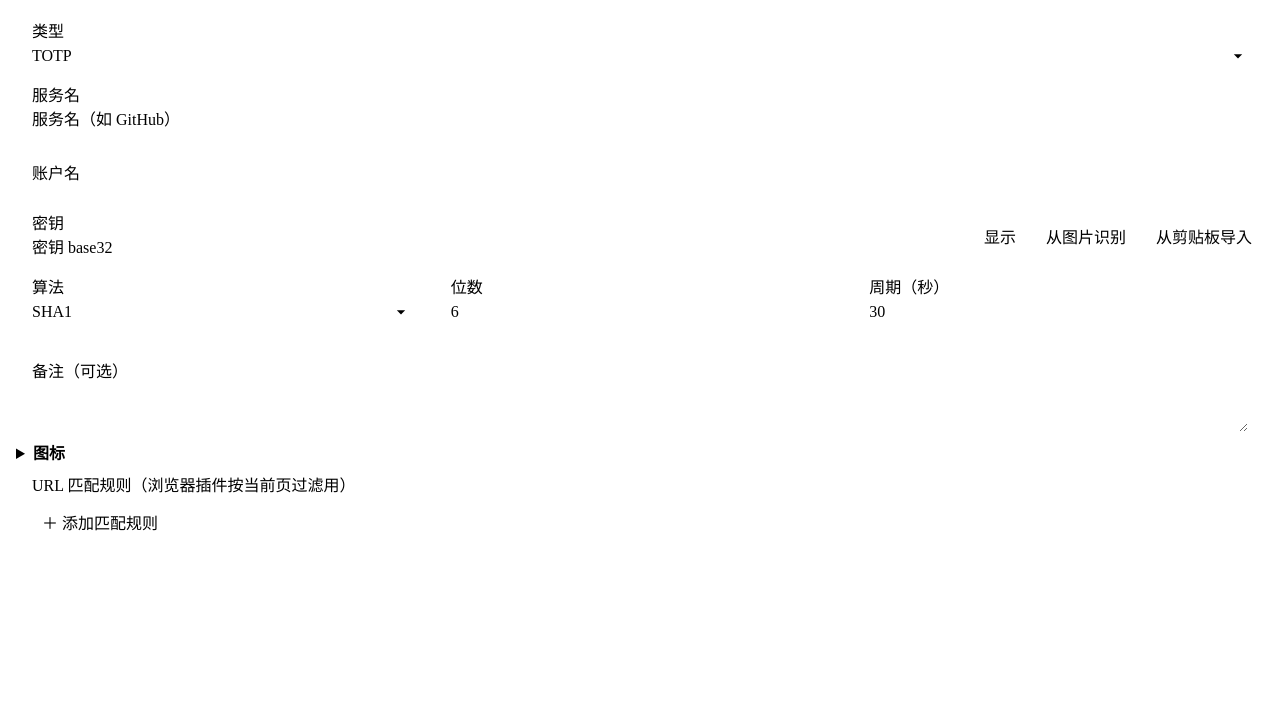
Test case: EntryForm 提交校验守卫（digits/period/counter 三向） › totp digits 越界（9）：digitsError 阻止提交
The image size is (1280, 720).
Replace the text in the number field labelled "位数" with "9" at (640, 312), box top-left (451, 300), bottom-right (829, 324)
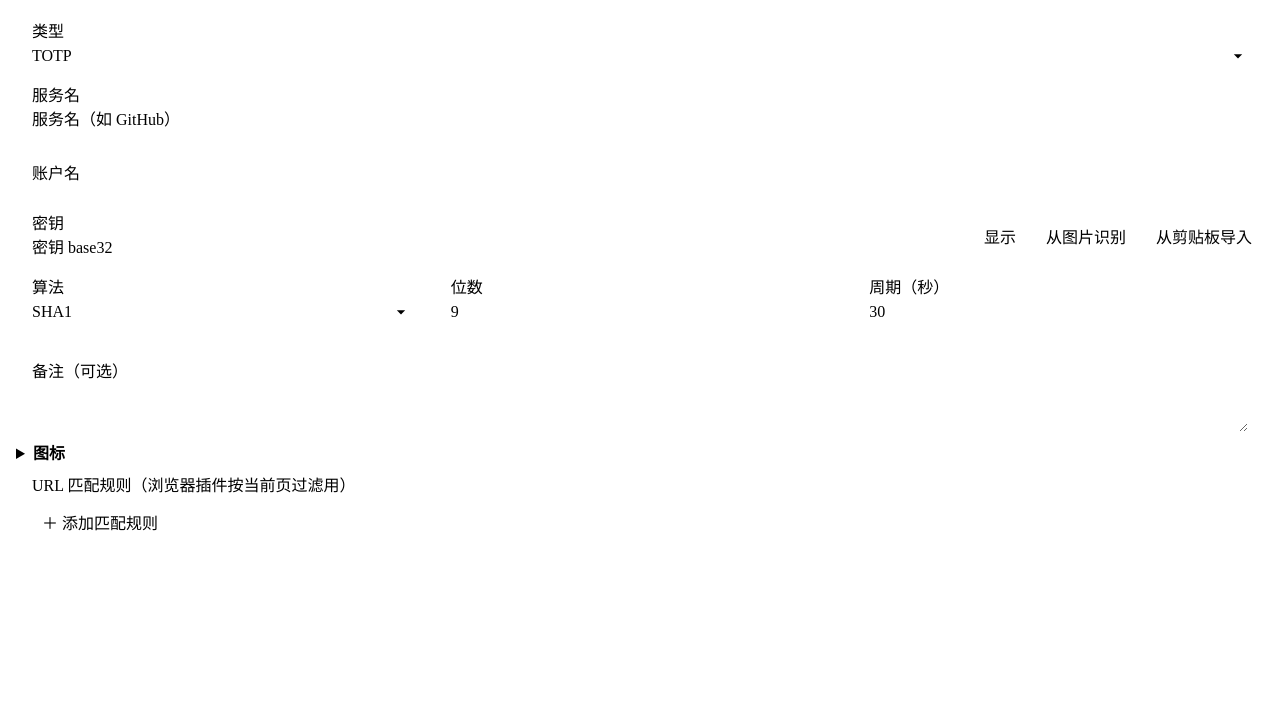
Submit the form
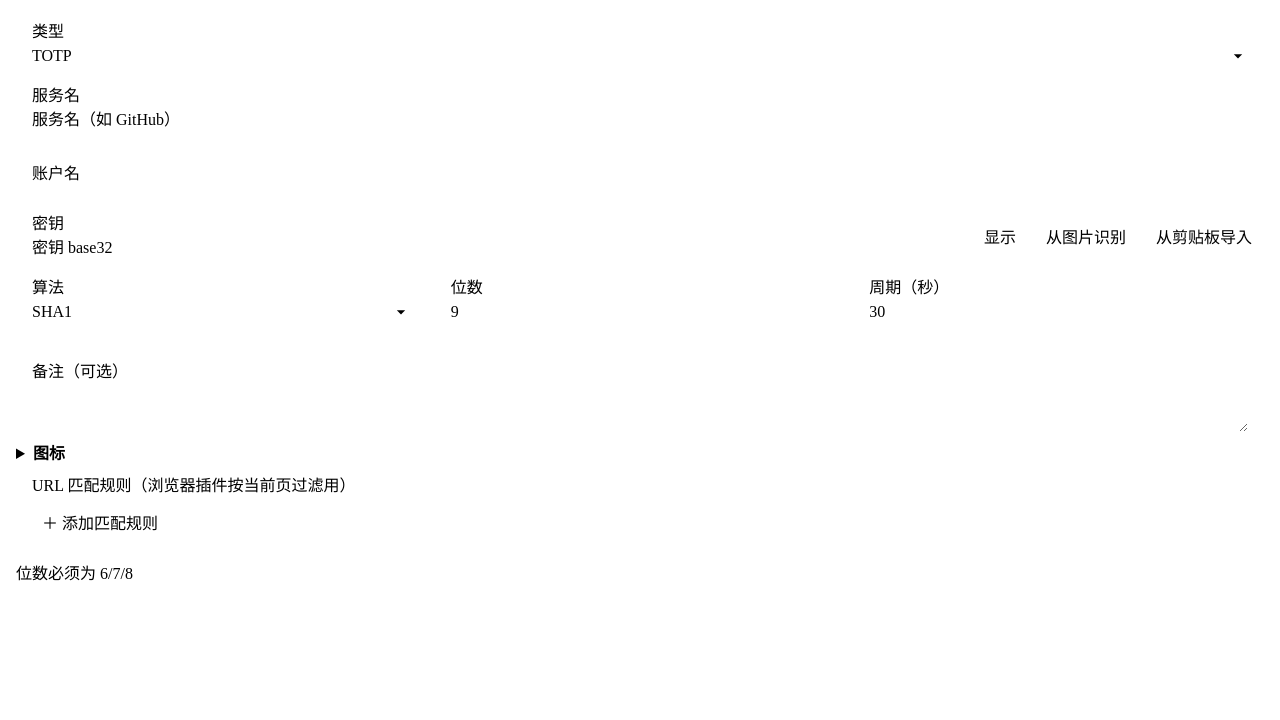
Result: the form shows "位数必须为 6/7/8" at top-left (16, 565), bottom-right (133, 582)
